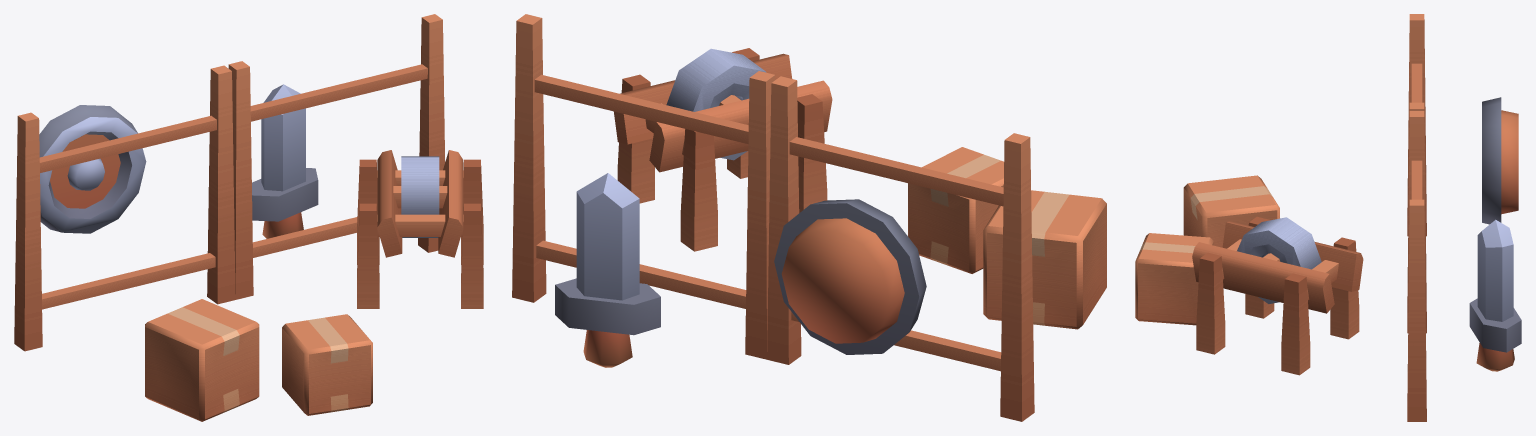
Rendered from bld_training_nook_2x2.glb.
The picture shows the model from 3 angles, left to right: view 1: azimuth 30°, elevation 25°; view 2: azimuth 150°, elevation 25°; view 3: azimuth 270°, elevation 25°; orthographic projection. The views are drawn at different scales.
Visible parts, largest first — view 1: fence, fence2, workbench-grind, box, shield-round, box2, weapon-sword, wheel; view 2: fence2, fence, shield-round, workbench-grind, weapon-sword, box, box2, wheel; view 3: workbench-grind, weapon-sword, fence2, box2, box, shield-round, wheel, fence.
Part boxes in pixels (x1,y1,x2,y2): fence: [14, 65, 235, 351]; fence2: [228, 14, 445, 299]; workbench-grind: [357, 150, 483, 308]; box: [145, 299, 259, 421]; shield-round: [39, 105, 146, 233]; box2: [282, 314, 372, 415]; weapon-sword: [252, 84, 318, 238]; wheel: [401, 156, 439, 237]; fence2: [512, 14, 775, 359]; fence: [767, 76, 1034, 421]; shield-round: [774, 199, 926, 354]; workbench-grind: [613, 48, 832, 251]; weapon-sword: [555, 173, 660, 367]; box: [983, 190, 1106, 329]; box2: [908, 147, 1003, 273]; wheel: [666, 48, 766, 160]; workbench-grind: [1192, 216, 1363, 375]; weapon-sword: [1469, 219, 1521, 371]; fence2: [1407, 111, 1426, 421]; box2: [1135, 233, 1213, 325]; box: [1183, 175, 1279, 247]; shield-round: [1482, 97, 1518, 224]; wheel: [1237, 217, 1321, 303]; fence: [1407, 14, 1426, 319].
Bounding box in the file's own units: 2 × 1.03 × 1.68.
Materials: 5 (5 with a texture image).
